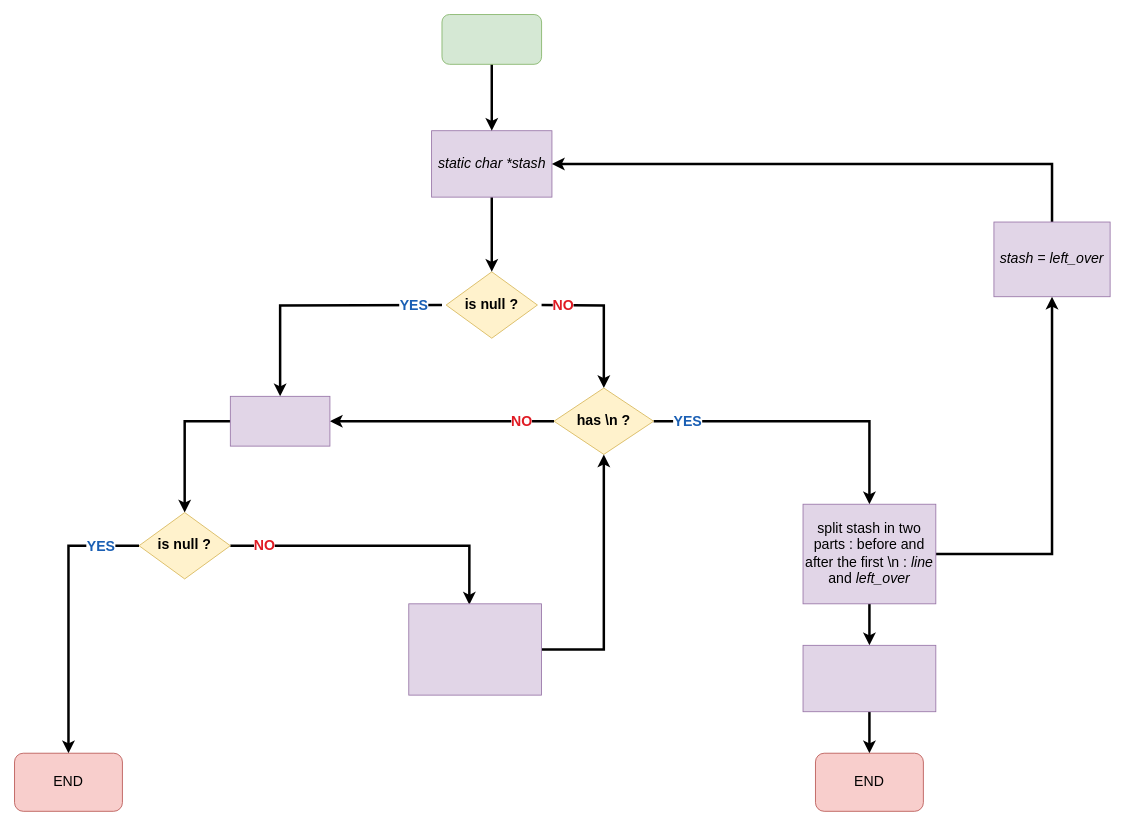
Image size: 1125x826. Some labels were removed from this diagram. The shapes that lost their labels are listed below. From the top down, each one's centre as x and y in pixels, then its label:
At (x=491, y=39): "START".
At (x=279, y=420): "read buffer".
At (x=475, y=649): "join buffer to stash : stash = stash + buffer".
At (x=869, y=678): "return line (what is before the first \n)".
